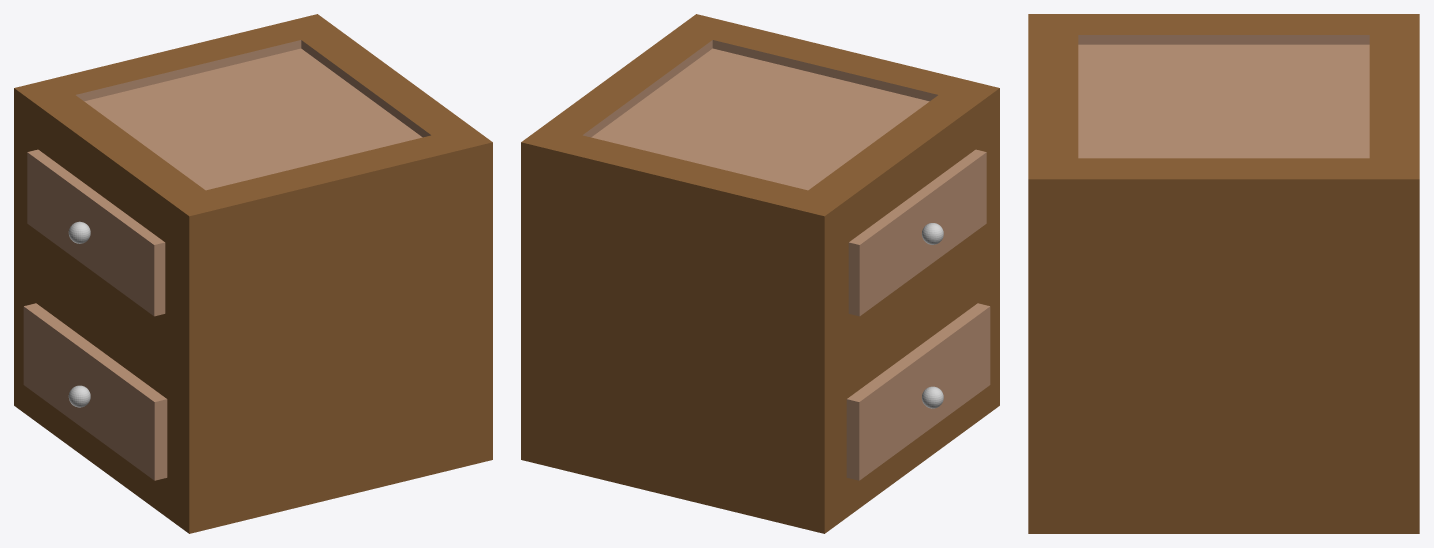
Rendered from MesaTrabajo.fbx.
The picture shows the model from 3 angles, left to right: view 1: azimuth 30°, elevation 25°; view 2: azimuth 150°, elevation 25°; view 3: azimuth 270°, elevation 25°; orthographic projection. The views are drawn at different scales.
Visible parts, largest first — view 1: Cube; view 2: Cube; view 3: Cube.
Boxes of the visible parts, bbox=[...] form: Cube: bbox=[14, 14, 492, 533]; Cube: bbox=[521, 14, 999, 533]; Cube: bbox=[1028, 14, 1419, 533].
Bounding box in the file's own units: 110 × 100 × 100.
